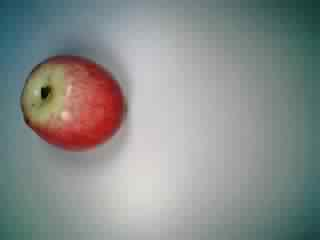apple: (21, 54, 125, 154)
